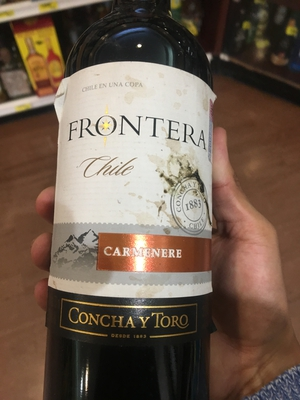frontera carmenere: (53, 13, 227, 398)
